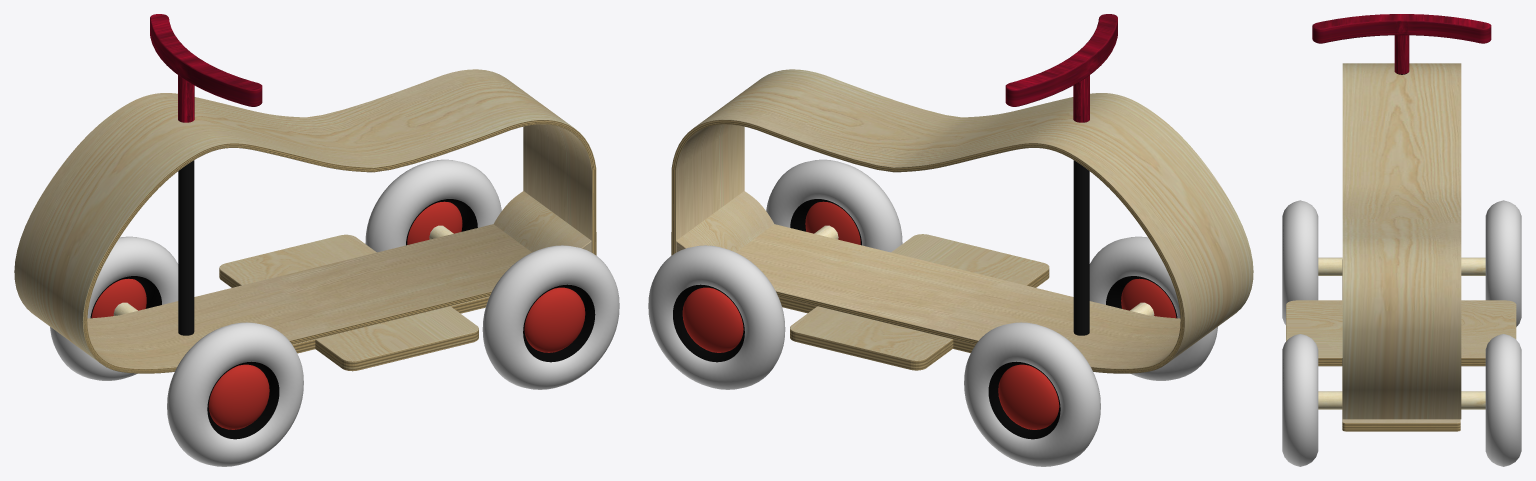
Rendered from wolfgang_sirch_sibis_max_fbx_upY.fbx.
3 renders of one model, left to right at view 1: azimuth 30°, elevation 25°; view 2: azimuth 150°, elevation 25°; view 3: azimuth 270°, elevation 25°, orthographic. The views are drawn at different scales.
Parts seen in each view (by area): view 1: wolfgang_sirch_sibis_max; view 2: wolfgang_sirch_sibis_max; view 3: wolfgang_sirch_sibis_max.
Boxes of the visible parts, bbox=[...] form: wolfgang_sirch_sibis_max: bbox=[14, 14, 619, 466]; wolfgang_sirch_sibis_max: bbox=[648, 14, 1253, 466]; wolfgang_sirch_sibis_max: bbox=[1282, 14, 1521, 466].
Size of the model in its own units: 56.64 by 37.57 by 25.94.
